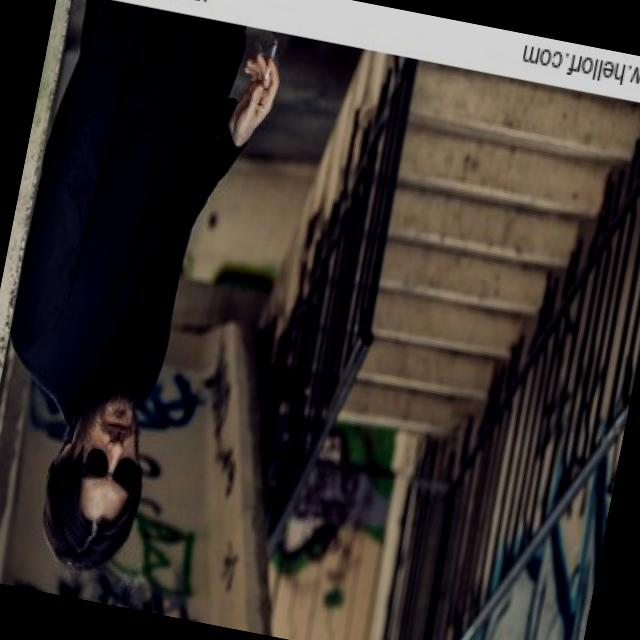smoke: (252, 41, 286, 99)
